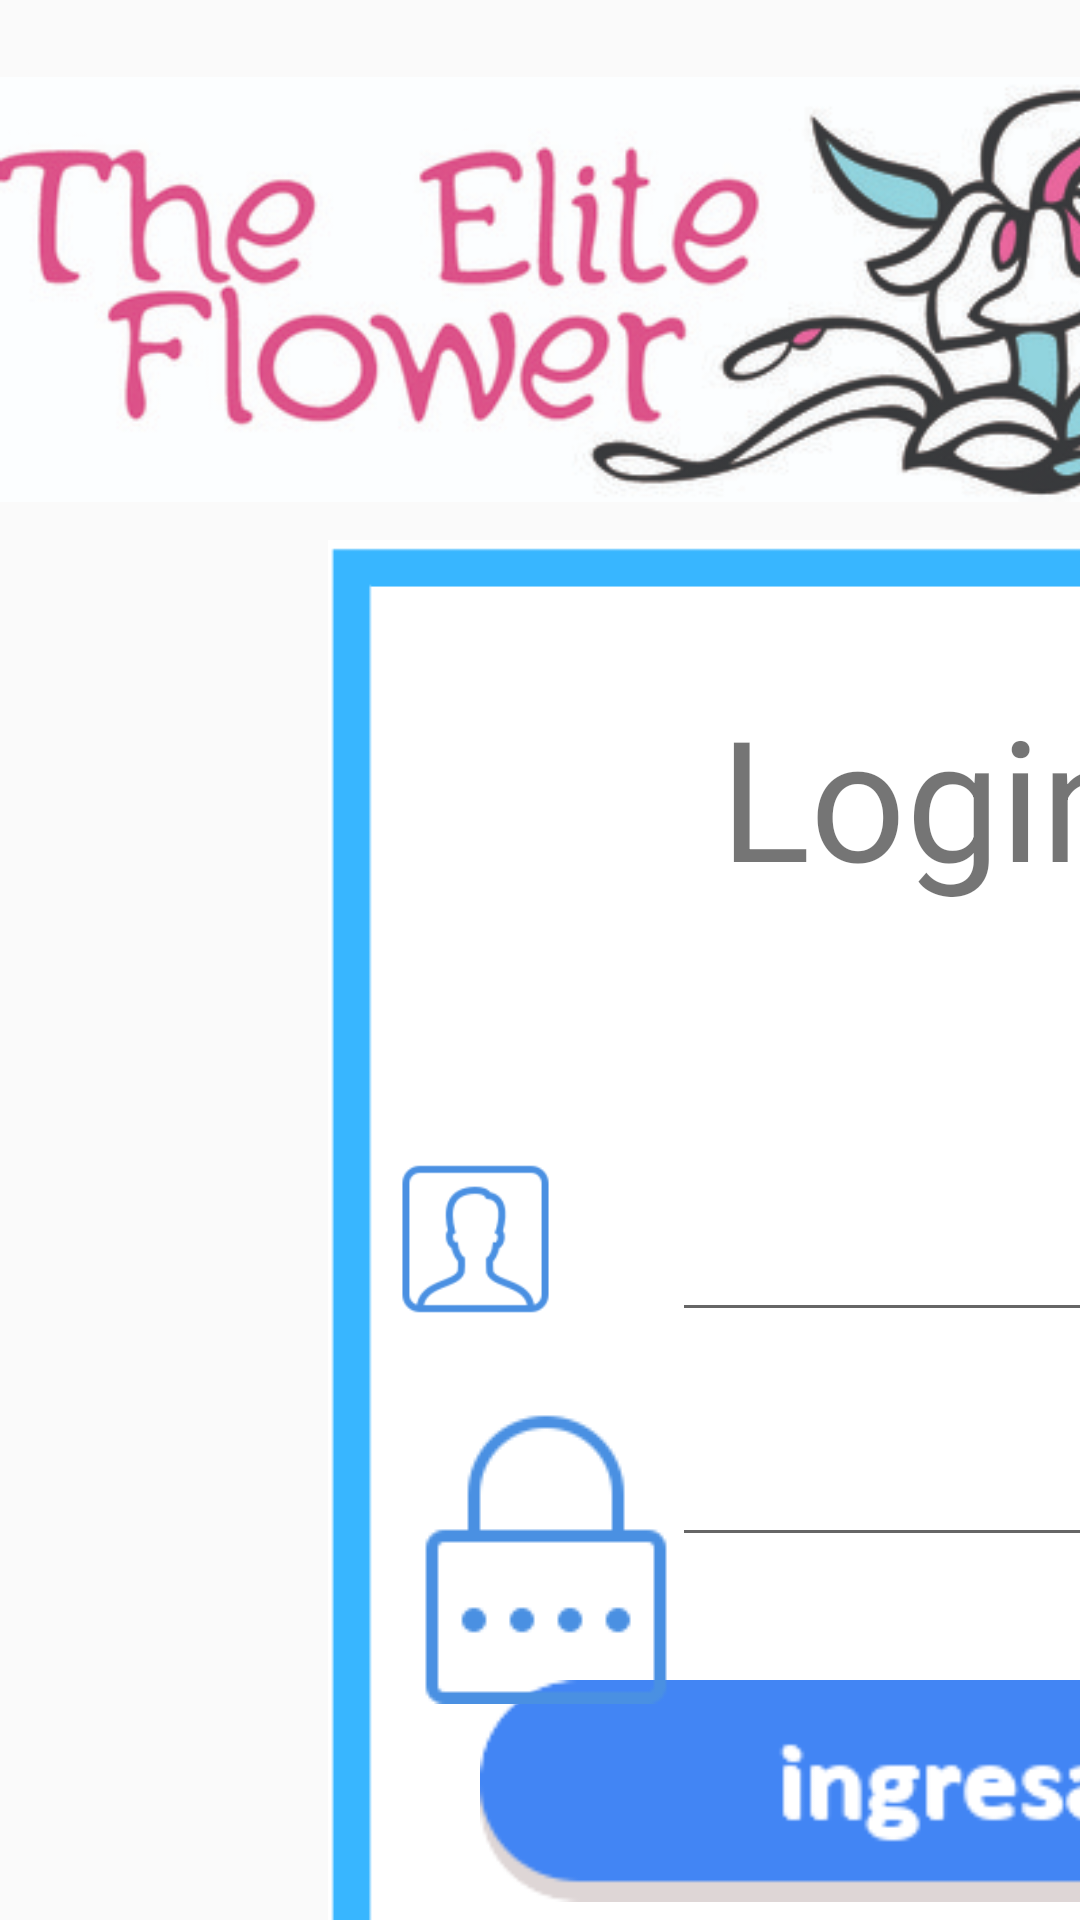

Icons on this 1080×1920 Android screen, each with the point to tap as (x=x, y=y):
pass: (x=560, y=1559)
user: (x=475, y=1239)
